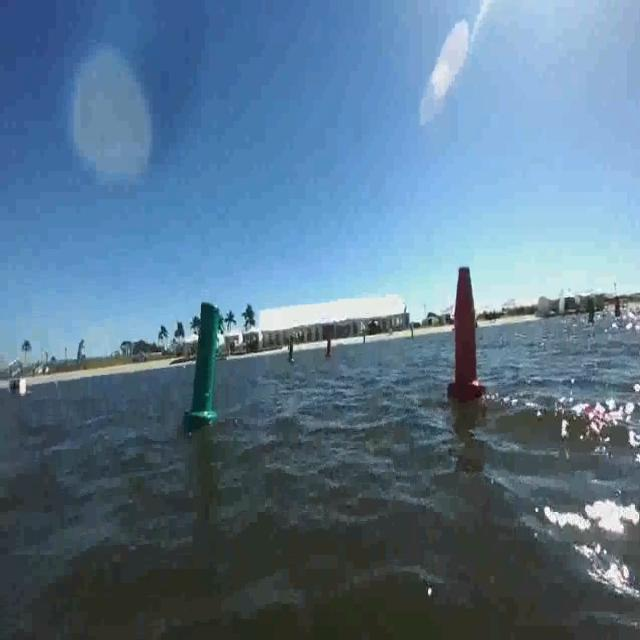green-column-buoy: (186, 313, 220, 427)
red-column-buoy: (450, 261, 488, 402)
